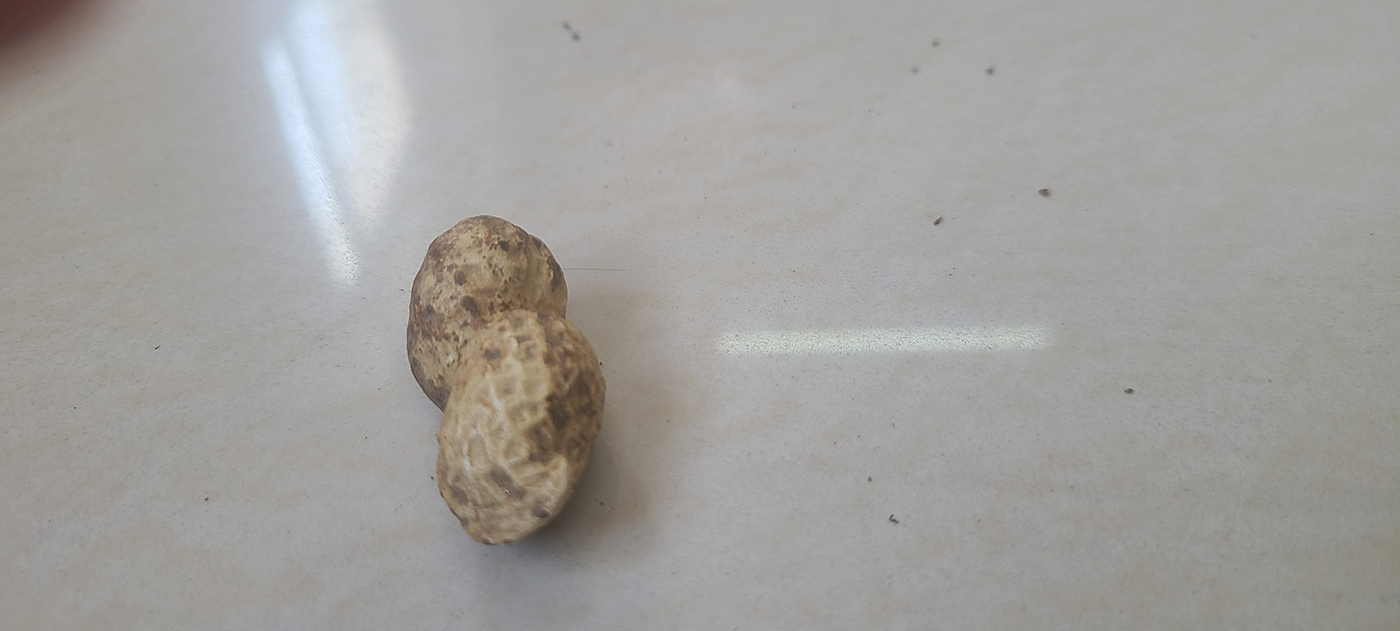h: (410, 217, 609, 547)
